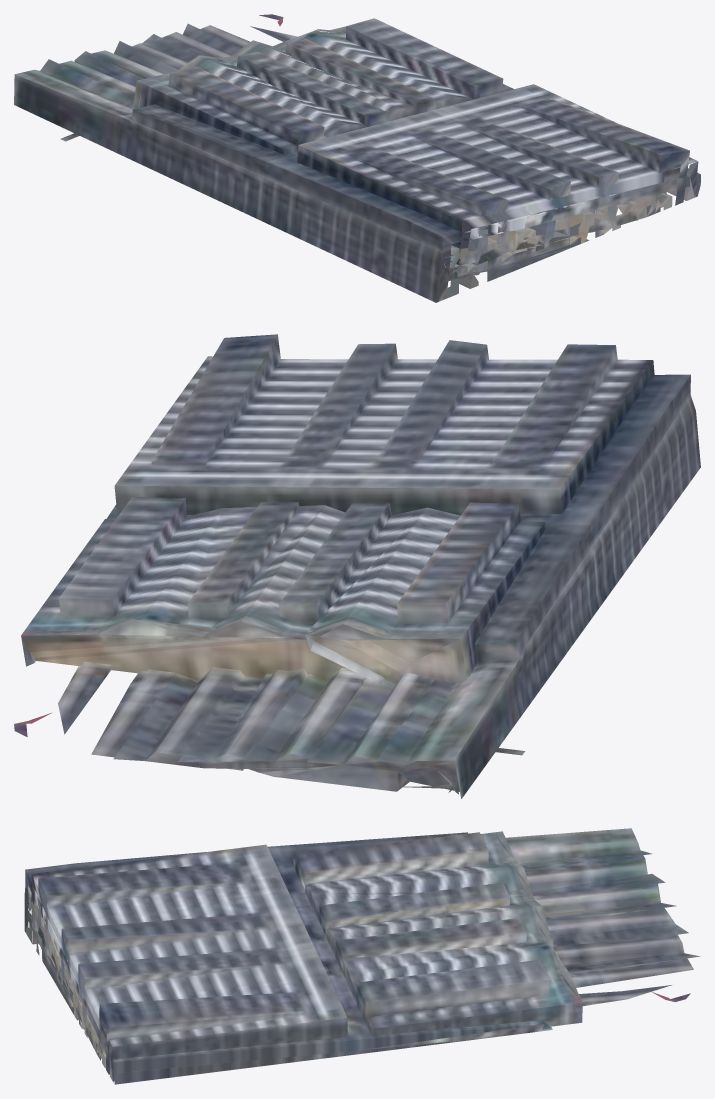
The model's file is tile_125.glb.
The picture shows the model from 3 angles, top to bottom: view 1: azimuth 30°, elevation 25°; view 2: azimuth 150°, elevation 25°; view 3: azimuth 270°, elevation 25°; orthographic projection. The views are drawn at different scales.
Bounding box in the file's own units: 78.46 × 13.52 × 105.
Materials: 1 (1 with a texture image).
